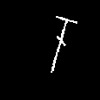double_crochet: (51, 16, 76, 72)
